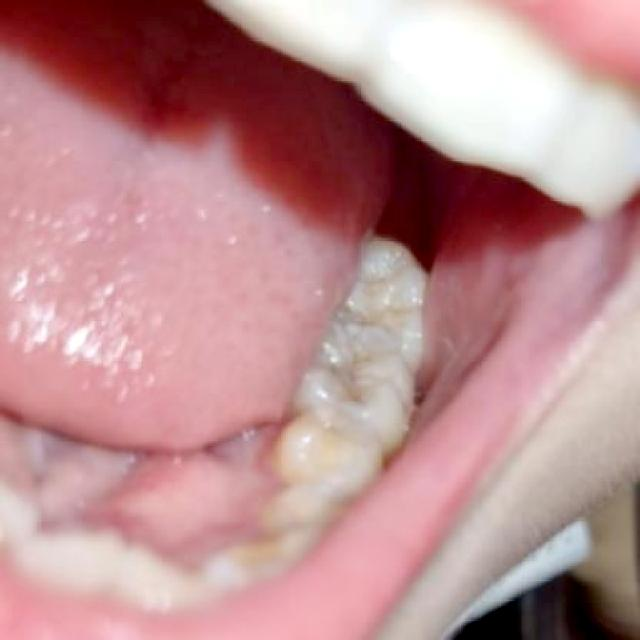Plaque: (337, 263, 406, 327), (320, 343, 386, 402)
